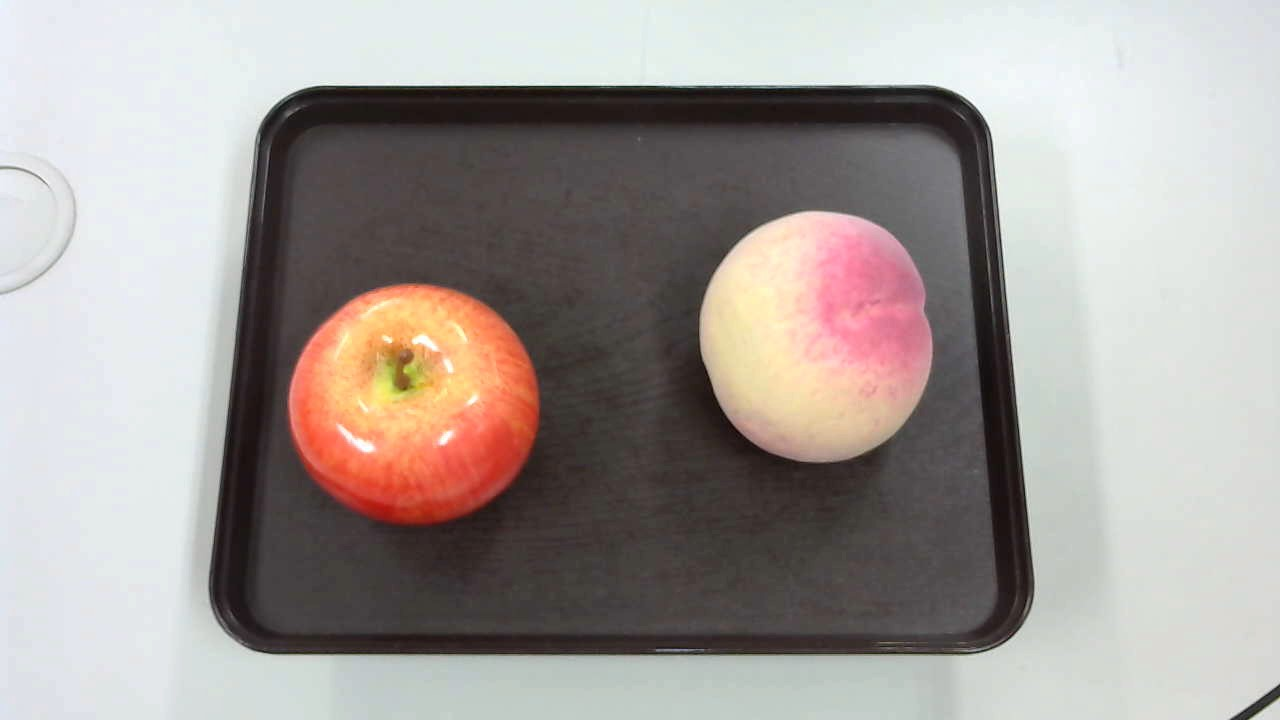peach: (684, 207, 930, 470)
red apple: (284, 286, 544, 527)
